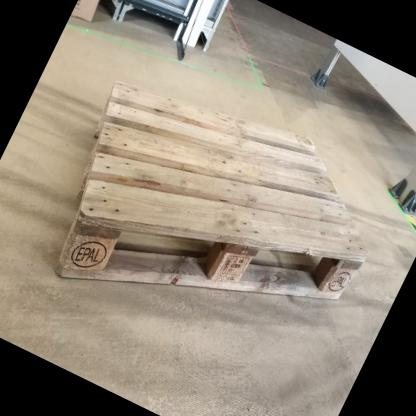BoxFace: (50, 70, 368, 309)
